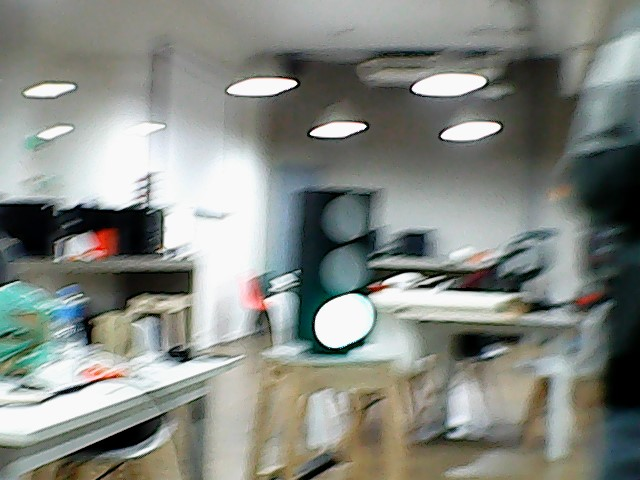verde: (297, 185, 383, 357)
